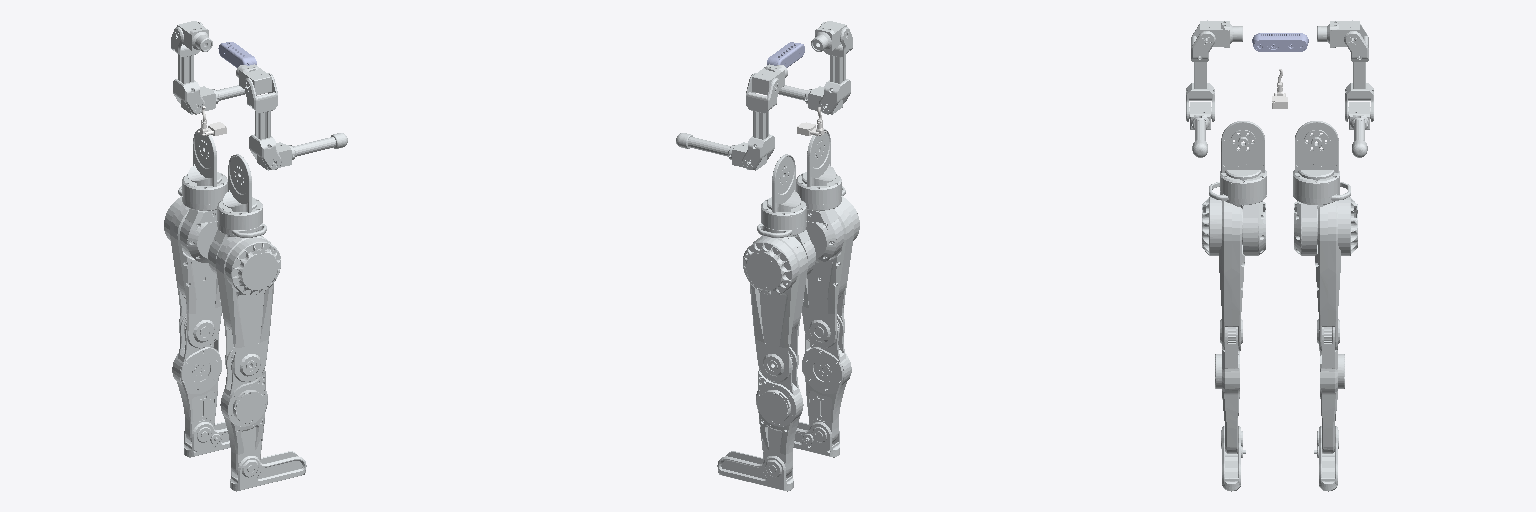
The robot description file, URDF, robot "Bipedal_URDF_V2":
<?xml version="1.0" encoding="utf-8"?>
<!-- This URDF was automatically created by SolidWorks to URDF Exporter! Originally created by Stephen Brawner ([email redacted]) 
     Commit Version: 1.6.0-4-g7f85cfe  Build Version: 1.6.7995.38578
     For more information, please see http://wiki.ros.org/sw_urdf_exporter -->
<robot
  name="Bipedal_URDF_V2">
  <link
    name="Base_link">
    <inertial>
      <origin
        xyz="0.011435 -0.00047323 0.0017565"
        rpy="0 0 0" />
      <mass
        value="3.6973" />
      <inertia
        ixx="0.0078666"
        ixy="-2.8985E-06"
        ixz="-2.6258E-05"
        iyy="0.0029023"
        iyz="-1.3249E-06"
        izz="0.0056487" />
    </inertial>
    <visual>
      <origin
        xyz="0 0 0"
        rpy="0 0 0" />
      <geometry>
        <mesh
          filename="package://Bipedal_URDF_V2/meshes/Base_link.STL" />
      </geometry>
      <material
        name="">
        <color
          rgba="0.89804 0.91765 0.92941 1" />
      </material>
    </visual>
    <collision>
      <origin
        xyz="0 0 0"
        rpy="0 0 0" />
      <geometry>
        <mesh
          filename="package://Bipedal_URDF_V2/meshes/Base_link.STL" />
      </geometry>
    </collision>
  </link>
  <link
    name="IMU_Link">
    <inertial>
      <origin
        xyz="-0.012671 5.2898E-05 0.010235"
        rpy="0 0 0" />
      <mass
        value="0.0077813" />
      <inertia
        ixx="9.1431E-07"
        ixy="-1.7489E-08"
        ixz="6.1667E-08"
        iyy="9.1976E-07"
        iyz="-1.6448E-08"
        izz="5.4701E-07" />
    </inertial>
    <visual>
      <origin
        xyz="0 0 0"
        rpy="0 0 0" />
      <geometry>
        <mesh
          filename="package://Bipedal_URDF_V2/meshes/IMU_Link.STL" />
      </geometry>
      <material
        name="">
        <color
          rgba="1 1 1 1" />
      </material>
    </visual>
    <collision>
      <origin
        xyz="0 0 0"
        rpy="0 0 0" />
      <geometry>
        <mesh
          filename="package://Bipedal_URDF_V2/meshes/IMU_Link.STL" />
      </geometry>
    </collision>
  </link>
  <joint
    name="IMU_Joint"
    type="fixed">
    <origin
      xyz="0 0 0.01"
      rpy="0 0 0" />
    <parent
      link="Base_link" />
    <child
      link="IMU_Link" />
    <axis
      xyz="0 0 0" />
  </joint>
  <link
    name="Camera_Link">
    <inertial>
      <origin
        xyz="-0.013242 0.0002508 -6.1614E-05"
        rpy="0 0 0" />
      <mass
        value="0.044093" />
      <inertia
        ixx="2.692E-05"
        ixy="2.4457E-07"
        ixz="-1.2535E-09"
        iyy="3.9298E-06"
        iyz="-2.6933E-09"
        izz="2.702E-05" />
    </inertial>
    <visual>
      <origin
        xyz="0 0 0"
        rpy="0 0 0" />
      <geometry>
        <mesh
          filename="package://Bipedal_URDF_V2/meshes/Camera_Link.STL" />
      </geometry>
      <material
        name="">
        <color
          rgba="0.79216 0.81961 0.93333 1" />
      </material>
    </visual>
    <collision>
      <origin
        xyz="0 0 0"
        rpy="0 0 0" />
      <geometry>
        <mesh
          filename="package://Bipedal_URDF_V2/meshes/Camera_Link.STL" />
      </geometry>
    </collision>
  </link>
  <joint
    name="Camera_Joint"
    type="fixed">
    <origin
      xyz="0.05175 0.0007652 0.1395"
      rpy="0 0 0" />
    <parent
      link="Base_link" />
    <child
      link="Camera_Link" />
    <axis
      xyz="0 0 0" />
  </joint>
  <link
    name="L1_Link">
    <inertial>
      <origin
        xyz="0.072098 0.00063403 0.003937"
        rpy="0 0 0" />
      <mass
        value="0.58873" />
      <inertia
        ixx="0.00041744"
        ixy="4.0731E-07"
        ixz="1.3738E-06"
        iyy="0.0002683"
        iyz="-2.7554E-09"
        izz="0.0003004" />
    </inertial>
    <visual>
      <origin
        xyz="0 0 0"
        rpy="0 0 0" />
      <geometry>
        <mesh
          filename="package://Bipedal_URDF_V2/meshes/L1_Link.STL" />
      </geometry>
      <material
        name="">
        <color
          rgba="0.89804 0.91765 0.92941 1" />
      </material>
    </visual>
    <collision>
      <origin
        xyz="0 0 0"
        rpy="0 0 0" />
      <geometry>
        <mesh
          filename="package://Bipedal_URDF_V2/meshes/L1_Link.STL" />
      </geometry>
    </collision>
  </link>
  <joint
    name="L1_Joint"
    type="revolute">
    <origin
      xyz="0.006 0.0585 -0.047"
      rpy="0 1.5708 0" />
    <parent
      link="Base_link" />
    <child
      link="L1_Link" />
    <axis
      xyz="0 0 -1" />
    <limit
      lower="-3.14"
      upper="3.14"
      effort="100"
      velocity="100" />
  </joint>
  <link
    name="L2_Link">
    <inertial>
      <origin
        xyz="-4.9984E-05 0.012853 0.047005"
        rpy="0 0 0" />
      <mass
        value="0.62672" />
      <inertia
        ixx="0.00046497"
        ixy="4.6328E-07"
        ixz="8.6413E-07"
        iyy="0.00076206"
        iyz="-3.7606E-05"
        izz="0.00040429" />
    </inertial>
    <visual>
      <origin
        xyz="0 0 0"
        rpy="0 0 0" />
      <geometry>
        <mesh
          filename="package://Bipedal_URDF_V2/meshes/L2_Link.STL" />
      </geometry>
      <material
        name="">
        <color
          rgba="0.89804 0.91765 0.92941 1" />
      </material>
    </visual>
    <collision>
      <origin
        xyz="0 0 0"
        rpy="0 0 0" />
      <geometry>
        <mesh
          filename="package://Bipedal_URDF_V2/meshes/L2_Link.STL" />
      </geometry>
    </collision>
  </link>
  <joint
    name="L2_Joint"
    type="revolute">
    <origin
      xyz="0.0987 0 0.004"
      rpy="1.5708 -1.5708 1.5708" />
    <parent
      link="L1_Link" />
    <child
      link="L2_Link" />
    <axis
      xyz="0 0 -1" />
    <limit
      lower="-3.14"
      upper="3.14"
      effort="100"
      velocity="100" />
  </joint>
  <link
    name="L3_Link">
    <inertial>
      <origin
        xyz="0.03428 -0.0012341 0.029827"
        rpy="0 0 0" />
      <mass
        value="0.98897" />
      <inertia
        ixx="0.00071849"
        ixy="3.5223E-05"
        ixz="-9.4746E-06"
        iyy="0.0021936"
        iyz="5.6196E-07"
        izz="0.0028375" />
    </inertial>
    <visual>
      <origin
        xyz="0 0 0"
        rpy="0 0 0" />
      <geometry>
        <mesh
          filename="package://Bipedal_URDF_V2/meshes/L3_Link.STL" />
      </geometry>
      <material
        name="">
        <color
          rgba="0.89804 0.91765 0.92941 1" />
      </material>
    </visual>
    <collision>
      <origin
        xyz="0 0 0"
        rpy="0 0 0" />
      <geometry>
        <mesh
          filename="package://Bipedal_URDF_V2/meshes/L3_Link.STL" />
      </geometry>
    </collision>
  </link>
  <joint
    name="L3_Joint"
    type="revolute">
    <origin
      xyz="0 -0.001 0.0515"
      rpy="1.5708 -1.5708 0" />
    <parent
      link="L2_Link" />
    <child
      link="L3_Link" />
    <axis
      xyz="0 0 -1" />
    <limit
      lower="-3.14"
      upper="3.14"
      effort="100"
      velocity="100" />
  </joint>
  <link
    name="L4_Link">
    <inertial>
      <origin
        xyz="0.076379 -0.0013265 -0.019409"
        rpy="0 0 0" />
      <mass
        value="0.63642" />
      <inertia
        ixx="0.00025641"
        ixy="5.3735E-06"
        ixz="1.3547E-05"
        iyy="0.0013428"
        iyz="4.452E-06"
        izz="0.0015459" />
    </inertial>
    <visual>
      <origin
        xyz="0 0 0"
        rpy="0 0 0" />
      <geometry>
        <mesh
          filename="package://Bipedal_URDF_V2/meshes/L4_Link.STL" />
      </geometry>
      <material
        name="">
        <color
          rgba="0.89804 0.91765 0.92941 1" />
      </material>
    </visual>
    <collision>
      <origin
        xyz="0 0 0"
        rpy="0 0 0" />
      <geometry>
        <mesh
          filename="package://Bipedal_URDF_V2/meshes/L4_Link.STL" />
      </geometry>
    </collision>
  </link>
  <joint
    name="L4_Joint"
    type="revolute">
    <origin
      xyz="0.185 0 -0.0002"
      rpy="3.1416 0 0" />
    <parent
      link="L3_Link" />
    <child
      link="L4_Link" />
    <axis
      xyz="0 0 -1" />
    <limit
      lower="-3.14"
      upper="3.14"
      effort="100"
      velocity="100" />
  </joint>
  <link
    name="L5_Link">
    <inertial>
      <origin
        xyz="0.035627 -0.020944 -0.016392"
        rpy="0 0 0" />
      <mass
        value="0.15035" />
      <inertia
        ixx="2.3349E-05"
        ixy="1.5213E-05"
        ixz="-5.9161E-08"
        iyy="0.00023958"
        iyz="6.928E-08"
        izz="0.00025435" />
    </inertial>
    <visual>
      <origin
        xyz="0 0 0"
        rpy="0 0 0" />
      <geometry>
        <mesh
          filename="package://Bipedal_URDF_V2/meshes/L5_Link.STL" />
      </geometry>
      <material
        name="">
        <color
          rgba="0.89804 0.91765 0.92941 1" />
      </material>
    </visual>
    <collision>
      <origin
        xyz="0 0 0"
        rpy="0 0 0" />
      <geometry>
        <mesh
          filename="package://Bipedal_URDF_V2/meshes/L5_Link.STL" />
      </geometry>
    </collision>
  </link>
  <joint
    name="L5_Joint"
    type="revolute">
    <origin
      xyz="0.19 0 -0.00095"
      rpy="0 0 1.5708" />
    <parent
      link="L4_Link" />
    <child
      link="L5_Link" />
    <axis
      xyz="0 0 -1" />
    <limit
      lower="-3.14"
      upper="3.14"
      effort="100"
      velocity="100" />
  </joint>
  <link
    name="R1_Link">
    <inertial>
      <origin
        xyz="0.072098 -0.00072688 0.0039382"
        rpy="0 0 0" />
      <mass
        value="0.58873" />
      <inertia
        ixx="0.00041744"
        ixy="6.3742E-07"
        ixz="1.3655E-06"
        iyy="0.00026831"
        iyz="-4.9326E-09"
        izz="0.00030039" />
    </inertial>
    <visual>
      <origin
        xyz="0 0 0"
        rpy="0 0 0" />
      <geometry>
        <mesh
          filename="package://Bipedal_URDF_V2/meshes/R1_Link.STL" />
      </geometry>
      <material
        name="">
        <color
          rgba="0.89804 0.91765 0.92941 1" />
      </material>
    </visual>
    <collision>
      <origin
        xyz="0 0 0"
        rpy="0 0 0" />
      <geometry>
        <mesh
          filename="package://Bipedal_URDF_V2/meshes/R1_Link.STL" />
      </geometry>
    </collision>
  </link>
  <joint
    name="R1_Joint"
    type="revolute">
    <origin
      xyz="0.006 -0.0585 -0.047"
      rpy="0 1.5708 0" />
    <parent
      link="Base_link" />
    <child
      link="R1_Link" />
    <axis
      xyz="0 0 -1" />
    <limit
      lower="-3.14"
      upper="3.14"
      effort="100"
      velocity="100" />
  </joint>
  <link
    name="R2_Link">
    <inertial>
      <origin
        xyz="4.9985E-05 -0.012853 0.047005"
        rpy="0 0 0" />
      <mass
        value="0.62672" />
      <inertia
        ixx="0.00046497"
        ixy="4.6327E-07"
        ixz="-8.6413E-07"
        iyy="0.00076206"
        iyz="3.7606E-05"
        izz="0.00040429" />
    </inertial>
    <visual>
      <origin
        xyz="0 0 0"
        rpy="0 0 0" />
      <geometry>
        <mesh
          filename="package://Bipedal_URDF_V2/meshes/R2_Link.STL" />
      </geometry>
      <material
        name="">
        <color
          rgba="0.89804 0.91765 0.92941 1" />
      </material>
    </visual>
    <collision>
      <origin
        xyz="0 0 0"
        rpy="0 0 0" />
      <geometry>
        <mesh
          filename="package://Bipedal_URDF_V2/meshes/R2_Link.STL" />
      </geometry>
    </collision>
  </link>
  <joint
    name="R2_Joint"
    type="revolute">
    <origin
      xyz="0.0987 0 0.004"
      rpy="1.5708 -1.5708 1.5708" />
    <parent
      link="R1_Link" />
    <child
      link="R2_Link" />
    <axis
      xyz="0 0 -1" />
    <limit
      lower="-3.14"
      upper="3.14"
      effort="100"
      velocity="100" />
  </joint>
  <link
    name="R3_Link">
    <inertial>
      <origin
        xyz="0.03427 0.0011883 0.029827"
        rpy="0 0 0" />
      <mass
        value="0.98897" />
      <inertia
        ixx="0.00071872"
        ixy="-3.4701E-05"
        ixz="-9.4351E-06"
        iyy="0.0021934"
        iyz="-3.7128E-07"
        izz="0.0028375" />
    </inertial>
    <visual>
      <origin
        xyz="0 0 0"
        rpy="0 0 0" />
      <geometry>
        <mesh
          filename="package://Bipedal_URDF_V2/meshes/R3_Link.STL" />
      </geometry>
      <material
        name="">
        <color
          rgba="0.89804 0.91765 0.92941 1" />
      </material>
    </visual>
    <collision>
      <origin
        xyz="0 0 0"
        rpy="0 0 0" />
      <geometry>
        <mesh
          filename="package://Bipedal_URDF_V2/meshes/R3_Link.STL" />
      </geometry>
    </collision>
  </link>
  <joint
    name="R3_Joint"
    type="revolute">
    <origin
      xyz="0 0.001 0.0515"
      rpy="-1.5708 -1.5708 0" />
    <parent
      link="R2_Link" />
    <child
      link="R3_Link" />
    <axis
      xyz="0 0 -1" />
    <limit
      lower="-3.14"
      upper="3.14"
      effort="100"
      velocity="100" />
  </joint>
  <link
    name="R4_Link">
    <inertial>
      <origin
        xyz="0.07638 0.0013265 -0.019409"
        rpy="0 0 0" />
      <mass
        value="0.63642" />
      <inertia
        ixx="0.00025641"
        ixy="-5.3741E-06"
        ixz="1.3547E-05"
        iyy="0.0013428"
        iyz="-4.4522E-06"
        izz="0.0015459" />
    </inertial>
    <visual>
      <origin
        xyz="0 0 0"
        rpy="0 0 0" />
      <geometry>
        <mesh
          filename="package://Bipedal_URDF_V2/meshes/R4_Link.STL" />
      </geometry>
      <material
        name="">
        <color
          rgba="0.89804 0.91765 0.92941 1" />
      </material>
    </visual>
    <collision>
      <origin
        xyz="0 0 0"
        rpy="0 0 0" />
      <geometry>
        <mesh
          filename="package://Bipedal_URDF_V2/meshes/R4_Link.STL" />
      </geometry>
    </collision>
  </link>
  <joint
    name="R4_Joint"
    type="revolute">
    <origin
      xyz="0.185 0 -0.00019997"
      rpy="3.1416 0 0" />
    <parent
      link="R3_Link" />
    <child
      link="R4_Link" />
    <axis
      xyz="0 0 -1" />
    <limit
      lower="-3.14"
      upper="3.14"
      effort="100"
      velocity="100" />
  </joint>
  <link
    name="R5_Link">
    <inertial>
      <origin
        xyz="0.035627 0.020944 -0.016392"
        rpy="0 0 0" />
      <mass
        value="0.15035" />
      <inertia
        ixx="2.3349E-05"
        ixy="-1.5213E-05"
        ixz="-5.8964E-08"
        iyy="0.00023958"
        iyz="-6.9262E-08"
        izz="0.00025435" />
    </inertial>
    <visual>
      <origin
        xyz="0 0 0"
        rpy="0 0 0" />
      <geometry>
        <mesh
          filename="package://Bipedal_URDF_V2/meshes/R5_Link.STL" />
      </geometry>
      <material
        name="">
        <color
          rgba="0.89804 0.91765 0.92941 1" />
      </material>
    </visual>
    <collision>
      <origin
        xyz="0 0 0"
        rpy="0 0 0" />
      <geometry>
        <mesh
          filename="package://Bipedal_URDF_V2/meshes/R5_Link.STL" />
      </geometry>
    </collision>
  </link>
  <joint
    name="R5_Joint"
    type="revolute">
    <origin
      xyz="0.19 0 -0.00095003"
      rpy="0 0 -1.5708" />
    <parent
      link="R4_Link" />
    <child
      link="R5_Link" />
    <axis
      xyz="0 0 -1" />
    <limit
      lower="-3.14"
      upper="3.14"
      effort="100"
      velocity="100" />
  </joint>
  <link
    name="AL1_Link">
    <inertial>
      <origin
        xyz="1.3769E-09 -0.00018181 0.040078"
        rpy="0 0 0" />
      <mass
        value="0.12061" />
      <inertia
        ixx="3.5452E-05"
        ixy="-8.5439E-12"
        ixz="-2.2018E-12"
        iyy="3.2077E-05"
        iyz="-9.6586E-08"
        izz="2.4439E-05" />
    </inertial>
    <visual>
      <origin
        xyz="0 0 0"
        rpy="0 0 0" />
      <geometry>
        <mesh
          filename="package://Bipedal_URDF_V2/meshes/AL1_Link.STL" />
      </geometry>
      <material
        name="">
        <color
          rgba="0.89804 0.91765 0.92941 1" />
      </material>
    </visual>
    <collision>
      <origin
        xyz="0 0 0"
        rpy="0 0 0" />
      <geometry>
        <mesh
          filename="package://Bipedal_URDF_V2/meshes/AL1_Link.STL" />
      </geometry>
    </collision>
  </link>
  <joint
    name="AL1_Joint"
    type="revolute">
    <origin
      xyz="0.0135 0.0599 0.14275"
      rpy="-1.5708 1.5708 0" />
    <parent
      link="Base_link" />
    <child
      link="AL1_Link" />
    <axis
      xyz="0 0 -1" />
    <limit
      lower="-3.14"
      upper="3.14"
      effort="50"
      velocity="50" />
  </joint>
  <link
    name="AL2_Link">
    <inertial>
      <origin
        xyz="0.067 0.01043 -0.020833"
        rpy="0 0 0" />
      <mass
        value="0.18698" />
      <inertia
        ixx="5.5251E-05"
        ixy="-1.8832E-06"
        ixz="-1.8832E-06"
        iyy="7.7113E-05"
        iyz="1.8559E-11"
        izz="7.7113E-05" />
    </inertial>
    <visual>
      <origin
        xyz="0 0 0"
        rpy="0 0 0" />
      <geometry>
        <mesh
          filename="package://Bipedal_URDF_V2/meshes/AL2_Link.STL" />
      </geometry>
      <material
        name="">
        <color
          rgba="0.89804 0.91765 0.92941 1" />
      </material>
    </visual>
    <collision>
      <origin
        xyz="0 0 0"
        rpy="0 0 0" />
      <geometry>
        <mesh
          filename="package://Bipedal_URDF_V2/meshes/AL2_Link.STL" />
      </geometry>
    </collision>
  </link>
  <joint
    name="AL2_Joint"
    type="revolute">
    <origin
      xyz="0 -0.0209 0.05675"
      rpy="1.5708 0 0" />
    <parent
      link="AL1_Link" />
    <child
      link="AL2_Link" />
    <axis
      xyz="0 0 -1" />
    <limit
      lower="-3.14"
      upper="3.14"
      effort="50"
      velocity="50" />
  </joint>
  <link
    name="AL3_Link">
    <inertial>
      <origin
        xyz="0.027025 2.0806E-09 -0.020713"
        rpy="0 0 0" />
      <mass
        value="0.11697" />
      <inertia
        ixx="2.1216E-05"
        ixy="2.1694E-12"
        ixz="-9.6585E-08"
        iyy="5.0167E-05"
        iyz="-2.2491E-13"
        izz="4.5438E-05" />
    </inertial>
    <visual>
      <origin
        xyz="0 0 0"
        rpy="0 0 0" />
      <geometry>
        <mesh
          filename="package://Bipedal_URDF_V2/meshes/AL3_Link.STL" />
      </geometry>
      <material
        name="">
        <color
          rgba="0.89804 0.91765 0.92941 1" />
      </material>
    </visual>
    <collision>
      <origin
        xyz="0 0 0"
        rpy="0 0 0" />
      <geometry>
        <mesh
          filename="package://Bipedal_URDF_V2/meshes/AL3_Link.STL" />
      </geometry>
    </collision>
  </link>
  <joint
    name="AL3_Joint"
    type="revolute">
    <origin
      xyz="0.134 -0.010403 -0.010403"
      rpy="1.5708 -1.5708 0" />
    <parent
      link="AL2_Link" />
    <child
      link="AL3_Link" />
    <axis
      xyz="0 0 -1" />
    <limit
      lower="-3.14"
      upper="3.14"
      effort="50"
      velocity="50" />
  </joint>
  <link
    name="AR1_Link">
    <inertial>
      <origin
        xyz="-1.3769E-09 0.00018182 0.040078"
        rpy="0 0 0" />
      <mass
        value="0.12061" />
      <inertia
        ixx="3.5452E-05"
        ixy="-8.5439E-12"
        ixz="2.2018E-12"
        iyy="3.2077E-05"
        iyz="9.6584E-08"
        izz="2.4439E-05" />
    </inertial>
    <visual>
      <origin
        xyz="0 0 0"
        rpy="0 0 0" />
      <geometry>
        <mesh
          filename="package://Bipedal_URDF_V2/meshes/AR1_Link.STL" />
      </geometry>
      <material
        name="">
        <color
          rgba="0.89804 0.91765 0.92941 1" />
      </material>
    </visual>
    <collision>
      <origin
        xyz="0 0 0"
        rpy="0 0 0" />
      <geometry>
        <mesh
          filename="package://Bipedal_URDF_V2/meshes/AR1_Link.STL" />
      </geometry>
    </collision>
  </link>
  <joint
    name="AR1_Joint"
    type="revolute">
    <origin
      xyz="0.0135 -0.0599 0.14275"
      rpy="1.5708 1.5708 0" />
    <parent
      link="Base_link" />
    <child
      link="AR1_Link" />
    <axis
      xyz="0 0 -1" />
    <limit
      lower="-3.14"
      upper="3.14"
      effort="50"
      velocity="50" />
  </joint>
  <link
    name="AR2_Link">
    <inertial>
      <origin
        xyz="0.067 -0.01043 -0.020833"
        rpy="0 0 0" />
      <mass
        value="0.18698" />
      <inertia
        ixx="5.5251E-05"
        ixy="1.8832E-06"
        ixz="-1.8832E-06"
        iyy="7.7113E-05"
        iyz="1.8559E-11"
        izz="7.7113E-05" />
    </inertial>
    <visual>
      <origin
        xyz="0 0 0"
        rpy="0 0 0" />
      <geometry>
        <mesh
          filename="package://Bipedal_URDF_V2/meshes/AR2_Link.STL" />
      </geometry>
      <material
        name="">
        <color
          rgba="0.89804 0.91765 0.92941 1" />
      </material>
    </visual>
    <collision>
      <origin
        xyz="0 0 0"
        rpy="0 0 0" />
      <geometry>
        <mesh
          filename="package://Bipedal_URDF_V2/meshes/AR2_Link.STL" />
      </geometry>
    </collision>
  </link>
  <joint
    name="AR2_Joint"
    type="revolute">
    <origin
      xyz="0 0.0209 0.05675"
      rpy="-1.5708 0 0" />
    <parent
      link="AR1_Link" />
    <child
      link="AR2_Link" />
    <axis
      xyz="0 0 -1" />
    <limit
      lower="-3.14"
      upper="3.14"
      effort="50"
      velocity="50" />
  </joint>
  <link
    name="AR3_Link">
    <inertial>
      <origin
        xyz="0.027025 -1.3745E-10 -0.020713"
        rpy="0 0 0" />
      <mass
        value="0.11697" />
      <inertia
        ixx="2.1216E-05"
        ixy="3.7782E-12"
        ixz="-9.6584E-08"
        iyy="5.0167E-05"
        iyz="-2.2491E-13"
        izz="4.5438E-05" />
    </inertial>
    <visual>
      <origin
        xyz="0 0 0"
        rpy="0 0 0" />
      <geometry>
        <mesh
          filename="package://Bipedal_URDF_V2/meshes/AR3_Link.STL" />
      </geometry>
      <material
        name="">
        <color
          rgba="0.89804 0.91765 0.92941 1" />
      </material>
    </visual>
    <collision>
      <origin
        xyz="0 0 0"
        rpy="0 0 0" />
      <geometry>
        <mesh
          filename="package://Bipedal_URDF_V2/meshes/AR3_Link.STL" />
      </geometry>
    </collision>
  </link>
  <joint
    name="AR3_Joint"
    type="revolute">
    <origin
      xyz="0.134 0.010403 -0.010403"
      rpy="-1.5708 -1.5708 0" />
    <parent
      link="AR2_Link" />
    <child
      link="AR3_Link" />
    <axis
      xyz="0 0 -1" />
    <limit
      lower="-3.14"
      upper="3.14"
      effort="50"
      velocity="50" />
  </joint>
<!--
  <gazebo>
    <plugin name="imu_plugin" filename="libgazebo_ros_imu.so">
      <alwaysOn>true</alwaysOn>
      <bodyName>Base_link</bodyName>
      <topicName>imu</topicName>
      <serviceName>imu_service</serviceName>
      <gaussianNoise>0.0</gaussianNoise>
      <updateRate>500.0</updateRate>
    </plugin>
  </gazebo>
-->

</robot>

--- Facts derived from the render (not from the file) ---
Views: 3 orthographic renders of the robot side by side, from view 1: azimuth 30°, elevation 25°; view 2: azimuth 150°, elevation 25°; view 3: azimuth 270°, elevation 25°.
Model Bipedal_URDF_V2 with 19 links and 18 joints (16 revolute, 2 fixed), rooted at Base_link, posed every joint at zero.
Visible links, largest first — view 1: R3_Link, L3_Link, L4_Link, R4_Link, R1_Link, L1_Link, R5_Link, AR2_Link, AL2_Link, L2_Link, L5_Link, AR3_Link (+4 smaller); view 2: L3_Link, R3_Link, R4_Link, L4_Link, L1_Link, R1_Link, L5_Link, AL2_Link, AR2_Link, R2_Link, R5_Link, AL3_Link (+4 smaller); view 3: R3_Link, L3_Link, L1_Link, R1_Link, L4_Link, R4_Link, AL2_Link, AR2_Link, L2_Link, R2_Link, Camera_Link, AL3_Link (+5 smaller).
Link boxes in pixels (x1,y1,x2,y2): R3_Link: (216,235,280,381); L3_Link: (164,196,221,348); L4_Link: (172,314,221,442); R4_Link: (220,347,267,475); R1_Link: (217,154,266,237); L1_Link: (178,129,227,210); R5_Link: (230,451,306,491); AR2_Link: (244,73,281,169); AL2_Link: (171,22,204,114); L2_Link: (180,209,217,262); L5_Link: (184,422,230,457); AR3_Link: (257,133,347,170); L3_Link: (743,235,807,381); R3_Link: (802,196,859,348); R4_Link: (802,314,851,442); L4_Link: (756,347,803,475); L1_Link: (757,154,806,237); R1_Link: (796,129,845,211); L5_Link: (717,451,793,491); AL2_Link: (742,73,779,169); AR2_Link: (819,22,852,114); R2_Link: (806,209,843,262); R5_Link: (793,422,839,457); AL3_Link: (676,133,766,170); R3_Link: (1202,197,1244,350); L3_Link: (1315,197,1357,350); L1_Link: (1293,121,1350,204); R1_Link: (1209,121,1266,205); L4_Link: (1320,327,1344,453); R4_Link: (1215,327,1239,453); AL2_Link: (1344,20,1373,121); AR2_Link: (1186,20,1215,121); L2_Link: (1294,201,1324,255); R2_Link: (1233,201,1265,255); Camera_Link: (1252,33,1308,51); AL3_Link: (1348,102,1370,157).
Bounding box of the posed robot: 0.2143 × 0.3011 × 0.7732 m (x, y, z).
Meshes: 19 distinct files referenced, 18 mesh visuals loaded (18 binary STL); not drawn: 1 (reference not matched to a file when rendering).
